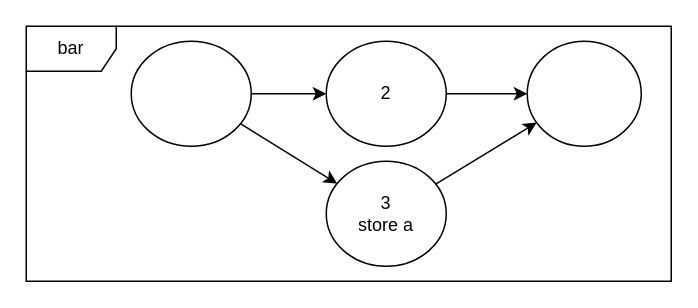
Image size: 698x308. Some labels were removed from this diagram. The centre of each missing label's shape, as x and y in pixels:
"1 store a" goes at (190,93).
"4 load a" goes at (583,93).
